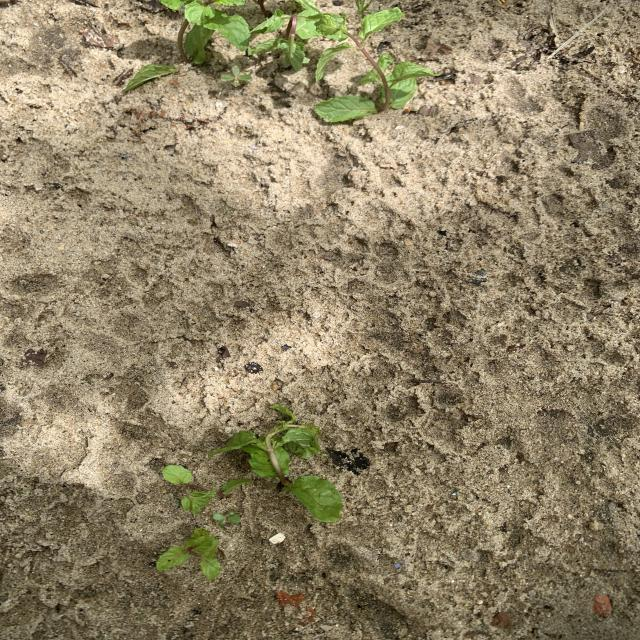crop: (210, 406, 341, 521), (314, 8, 438, 120), (160, 1, 249, 63), (252, 2, 332, 70), (163, 464, 251, 513), (157, 528, 219, 578)
weed: (221, 66, 251, 87), (212, 511, 240, 526)
